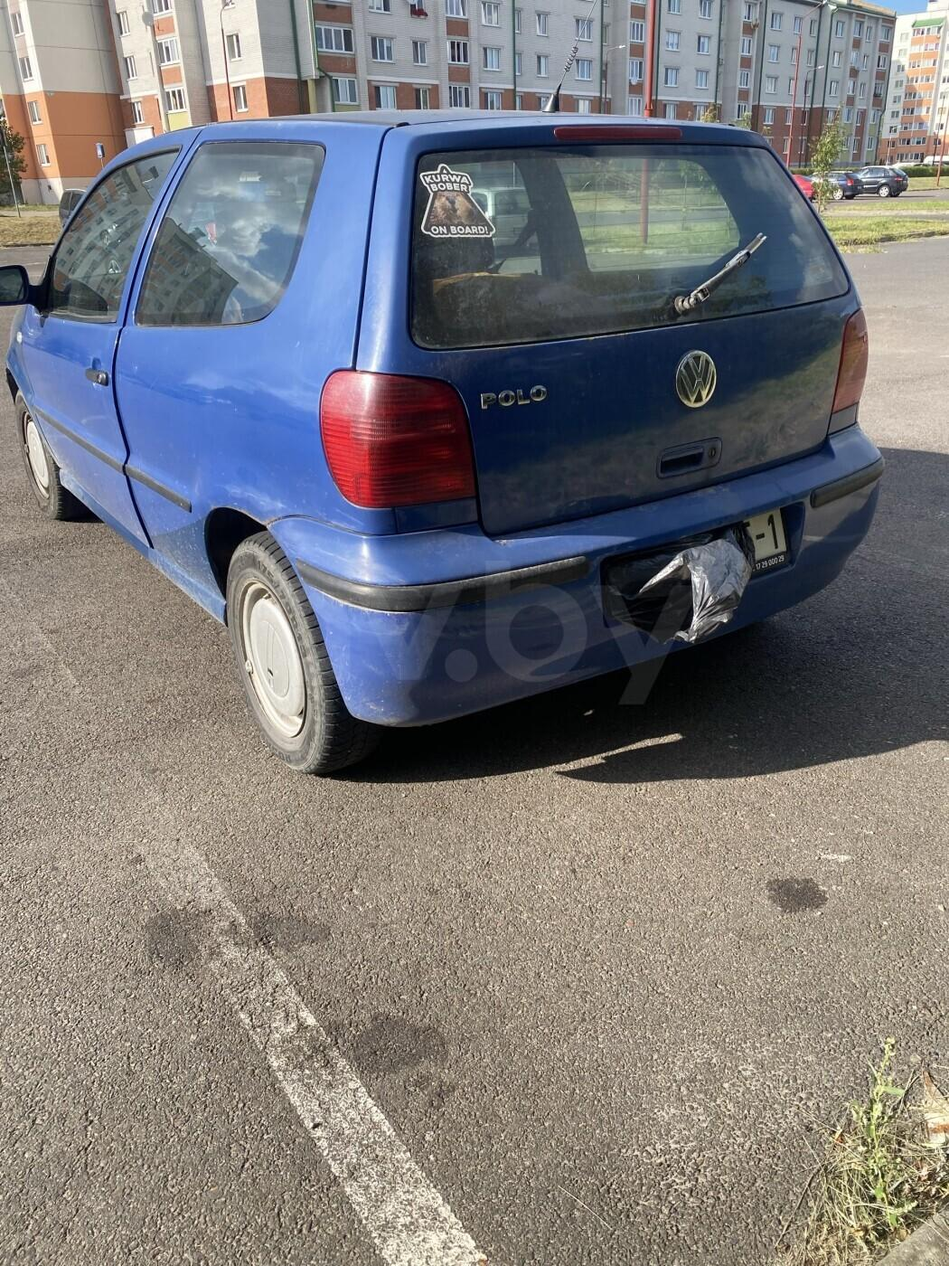Polo_2000-2002: (0, 86, 887, 788)
